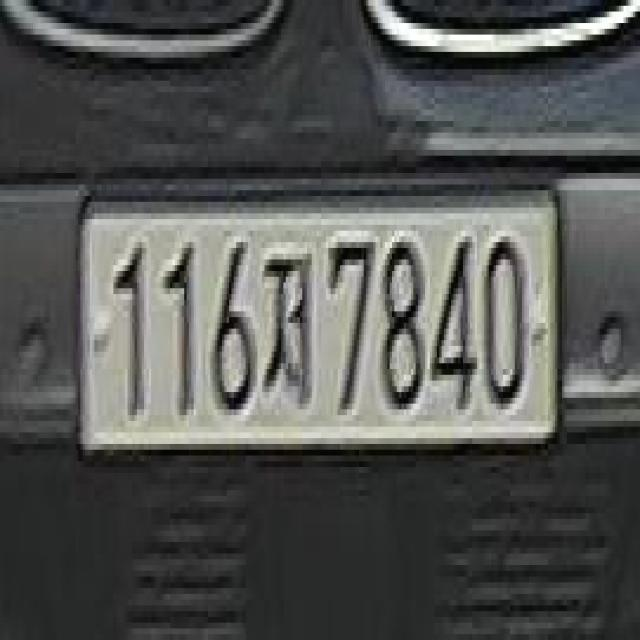illegal_plate: (78, 170, 558, 480)
